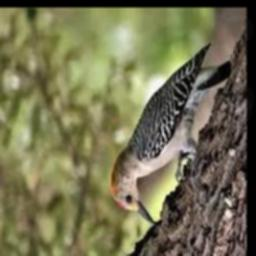Woodpecker: (111, 43, 232, 226)
